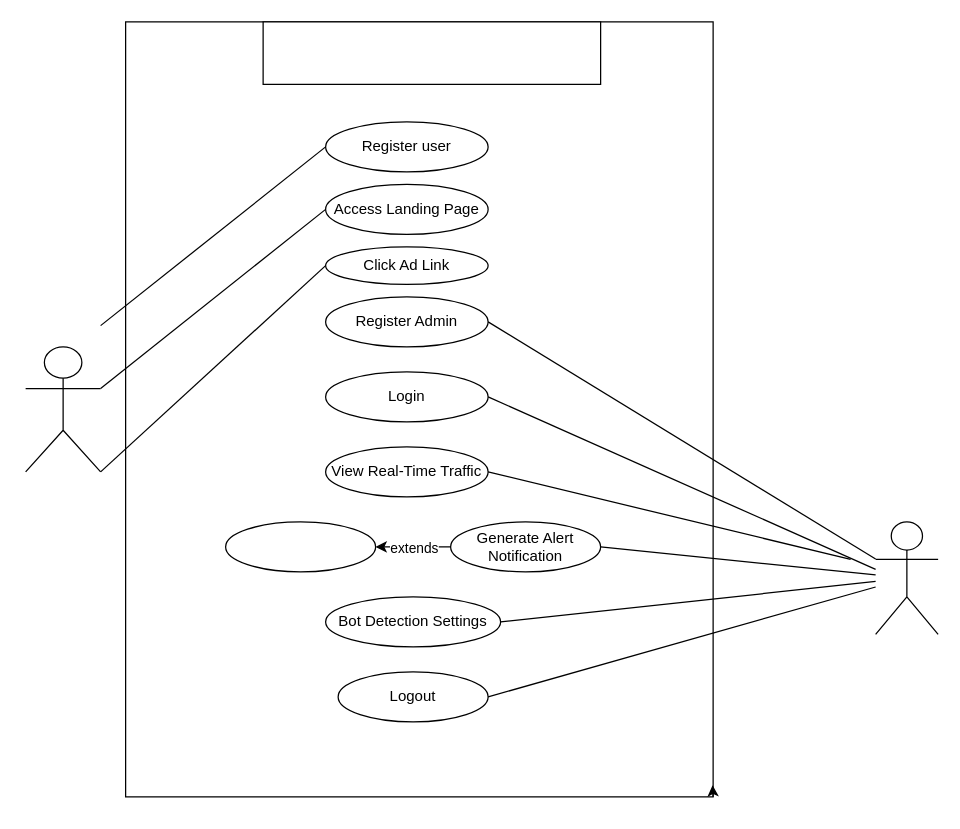
This 960x829 diagram has some shape labels left out. The centre of each missing label's shape, as x and y in pixels:
"AdGuard Detection System" belongs at point 431,52.
"Admin" belongs at point 906,577.
"View Fraud Logs" belongs at point 300,546.
"Web Visitors" belongs at point 62,409.
